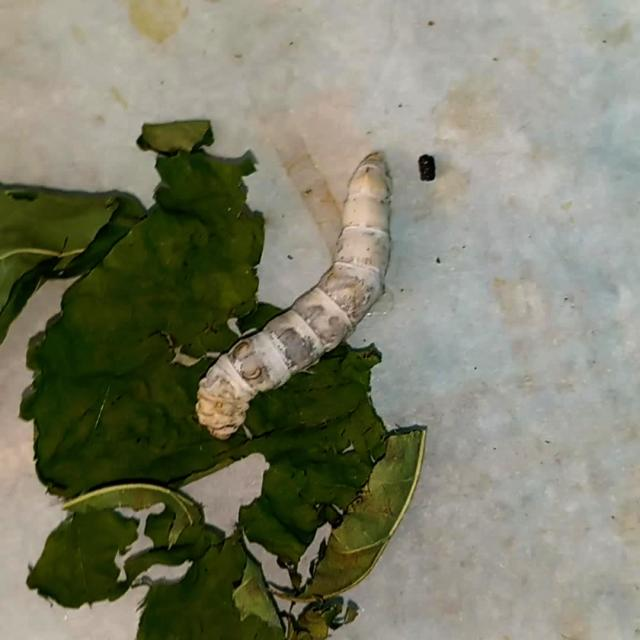Grasserie: (169, 132, 436, 454)
